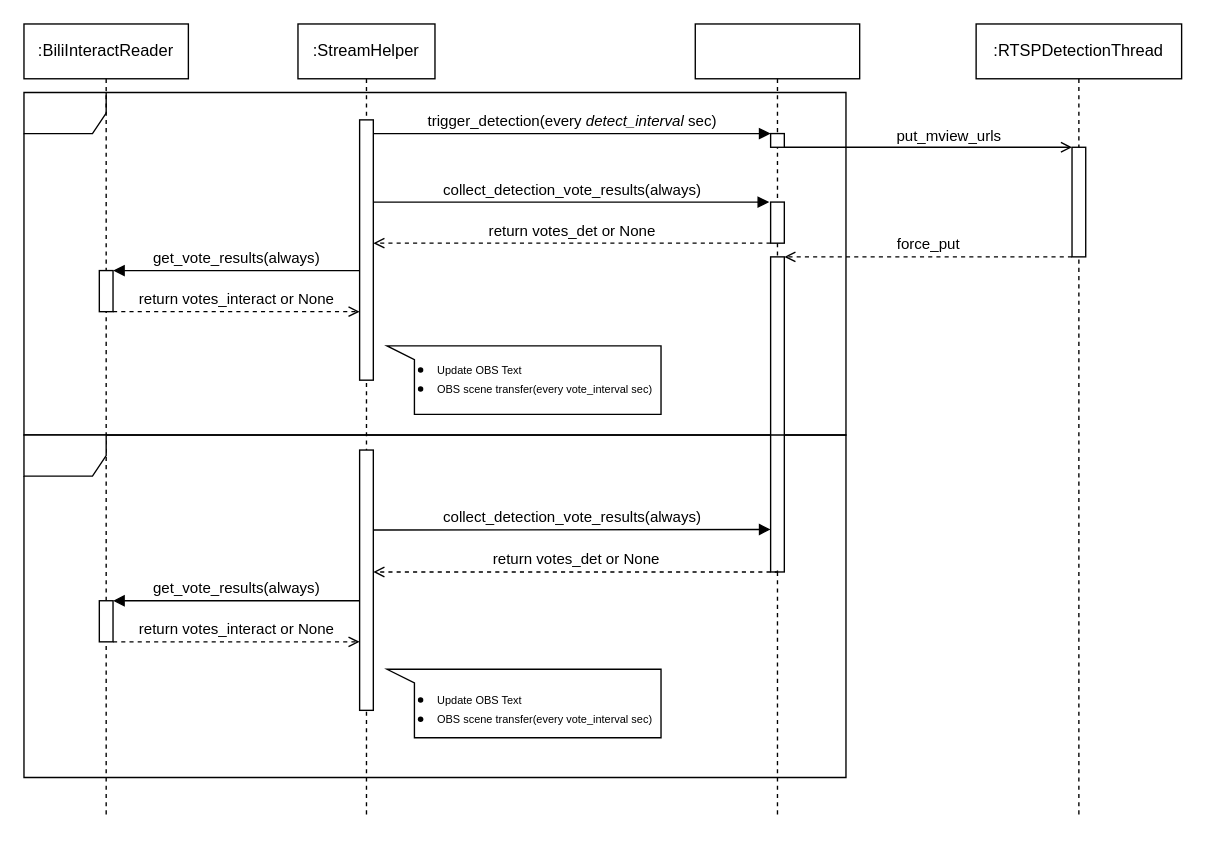
Some shapes in this 1206 by 843 pixel diagram are drawn without their labels. Each missing label, with the box of its shape:
:DetectionProcessor: (694, 23, 860, 819)
loop_0: (23, 91, 846, 435)
loop_1: (23, 434, 846, 777)
